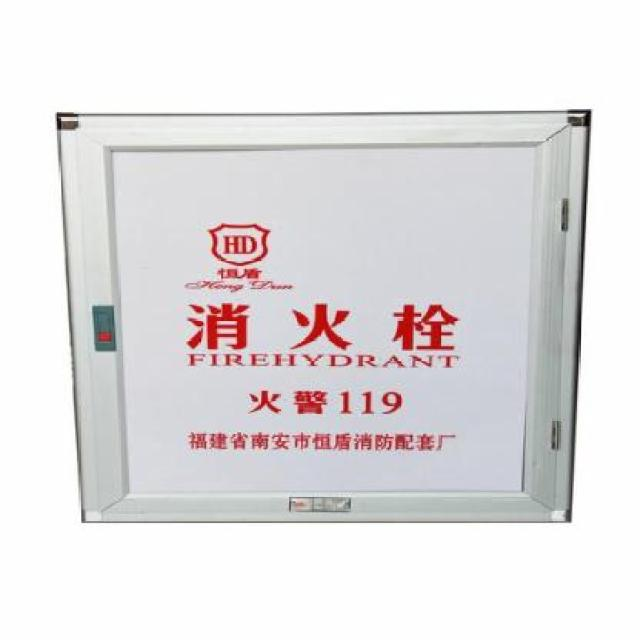firehydrant: (44, 100, 598, 528)
